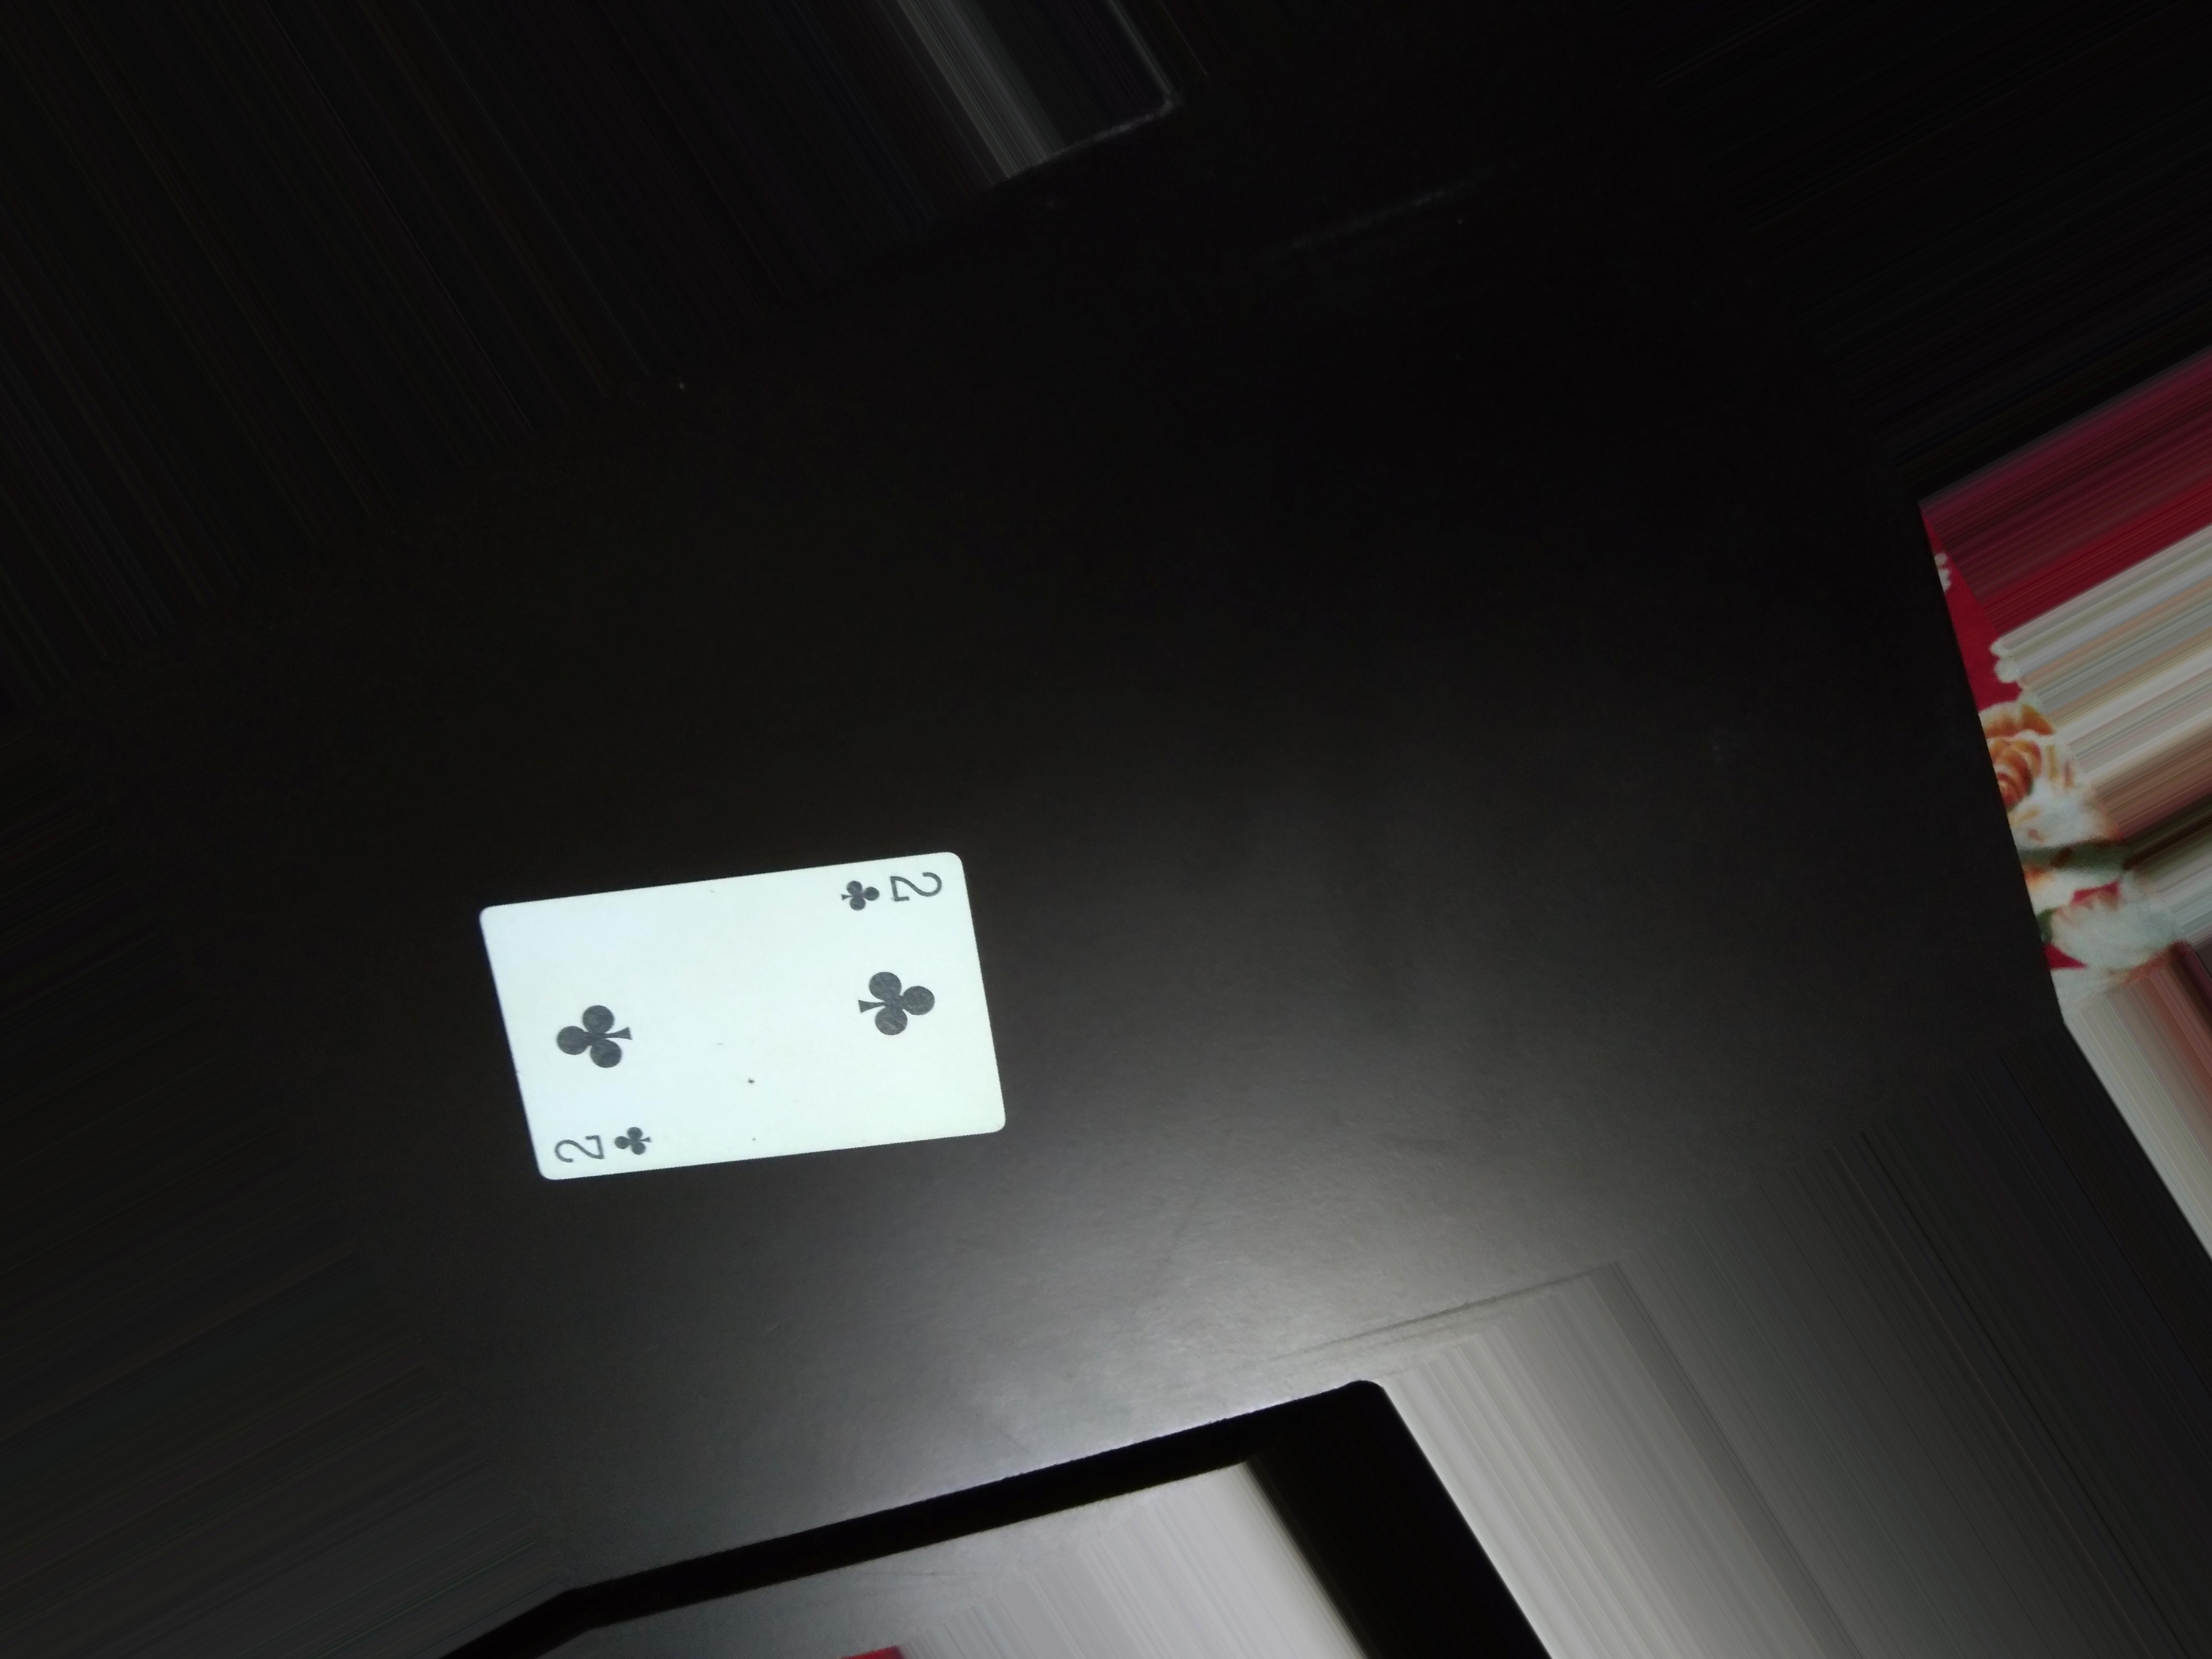2C: (538, 1119, 664, 1162)
